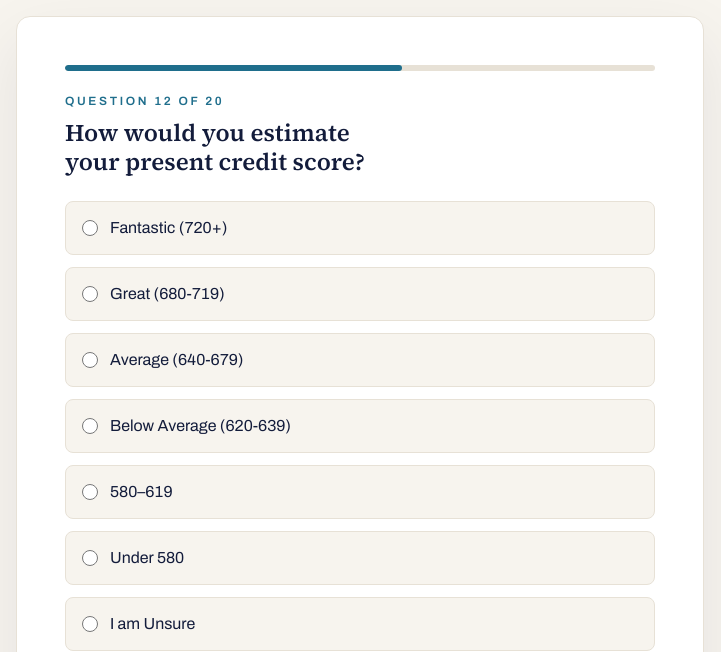
Test: AssessmentQuizClient contact step › jumps to the step with a problem when the whole draft fails at the end
Check: the heading "How would you estimate your present credit score?" is shown, box [65,116,365,178]
Click the radio button labelled "Fantastic (720+)". click: (90, 228)
box: [82,220,98,236]
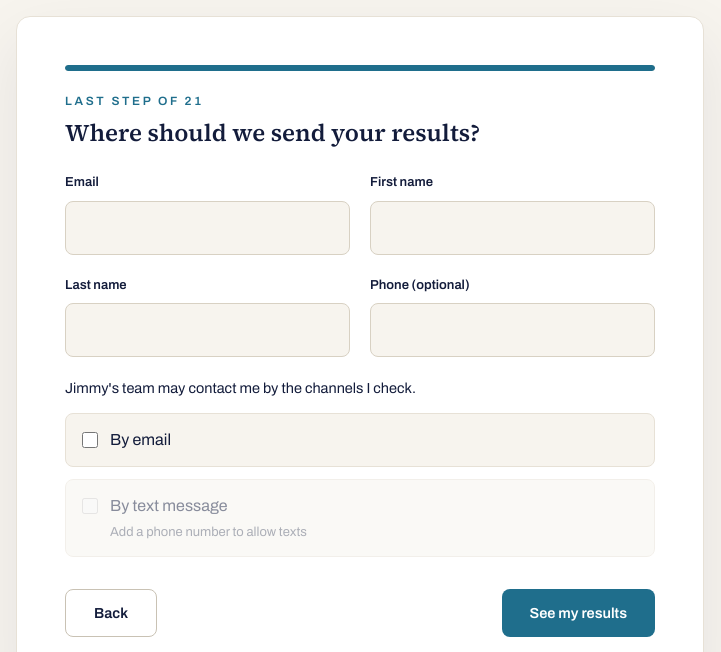
Check: the text "Last step of 21" is shown, box [65,94,204,108]
Click the button "See my results". click: (578, 613)
box: [502,589,655,637]
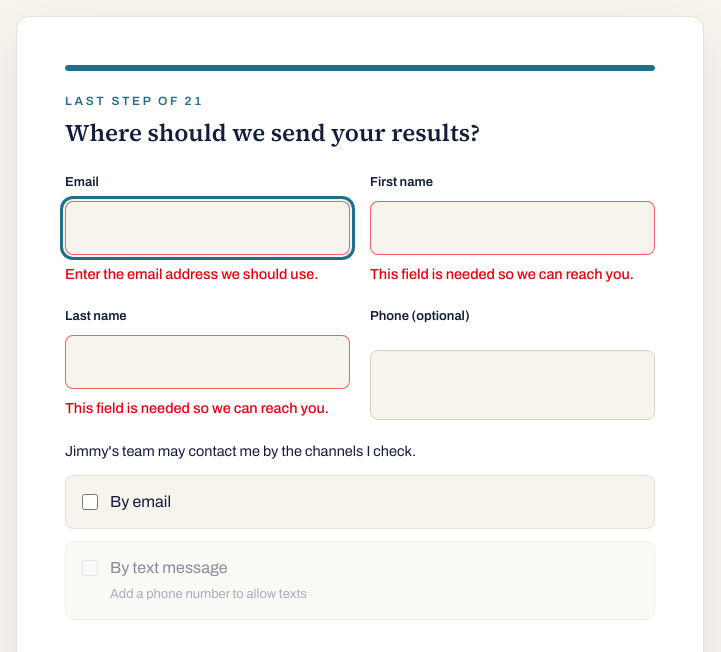
Check: the heading "Where should we send your results?" is shown, box [65,116,480,149]
Check: the message "Enter the email address we should use." is shown, box [65,263,350,286]
